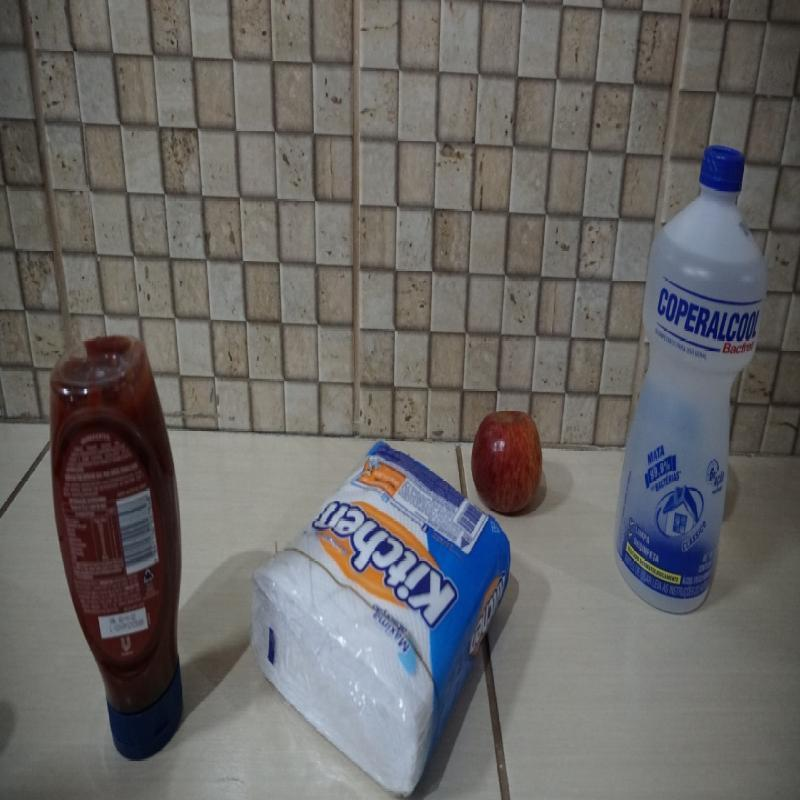Alcohol Bottle: (612, 142, 767, 618)
Apple: (469, 409, 545, 515)
Ketchup: (47, 334, 187, 764)
Napkin: (252, 441, 510, 796)
